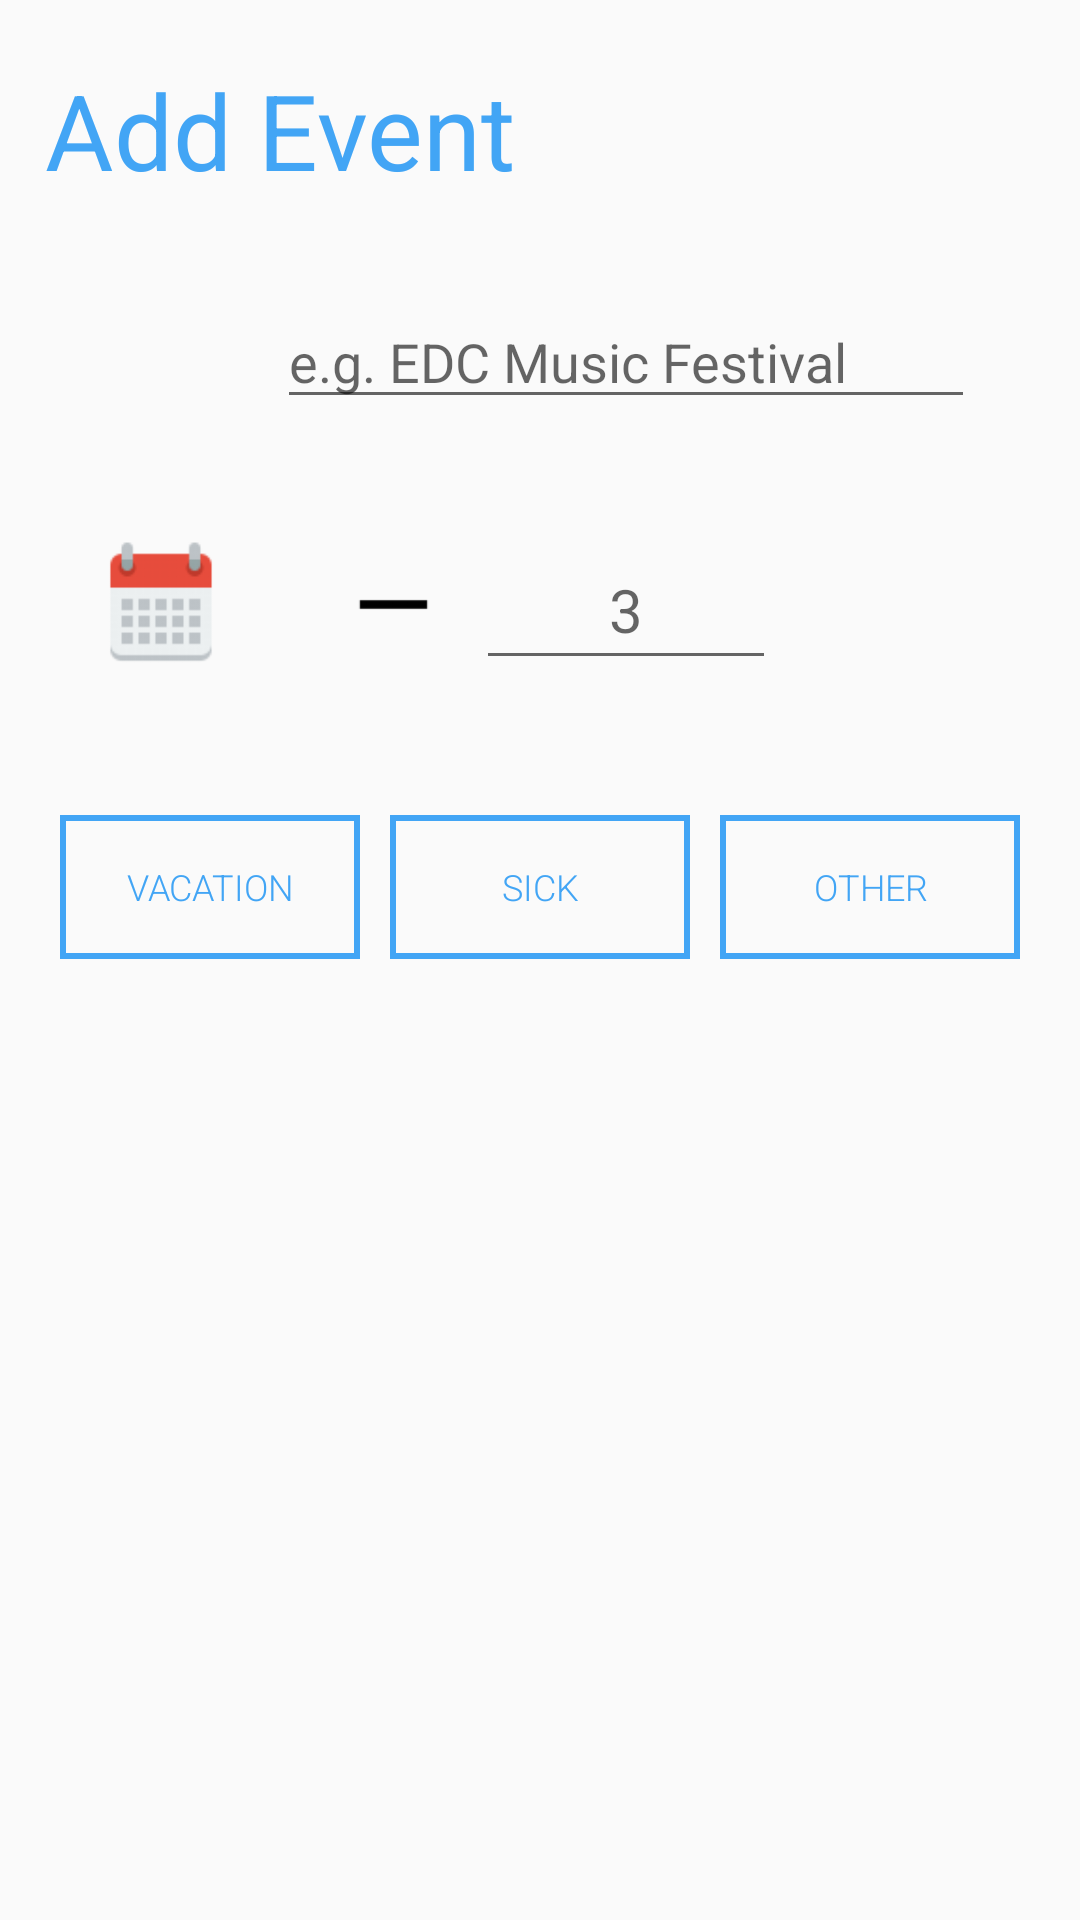

Point at icon controls on the screen. Image size 1080px×1920px, points as [x,y].
calendar: [161,601]
